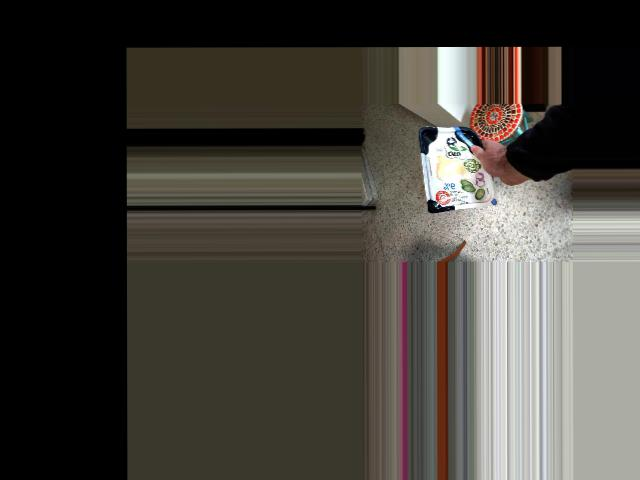cheese: (443, 138, 509, 211)
